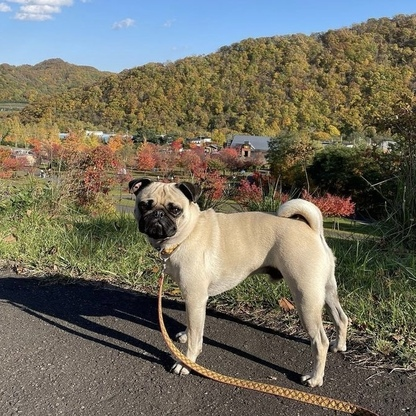Pug: (123, 174, 356, 392)
